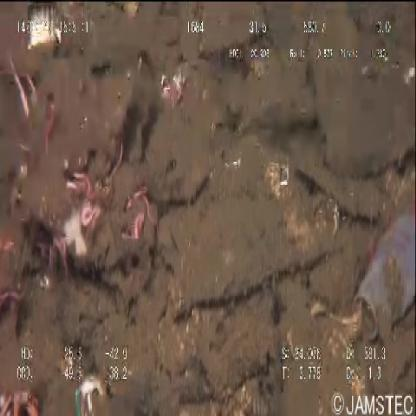Rác: (352, 213, 416, 343)
